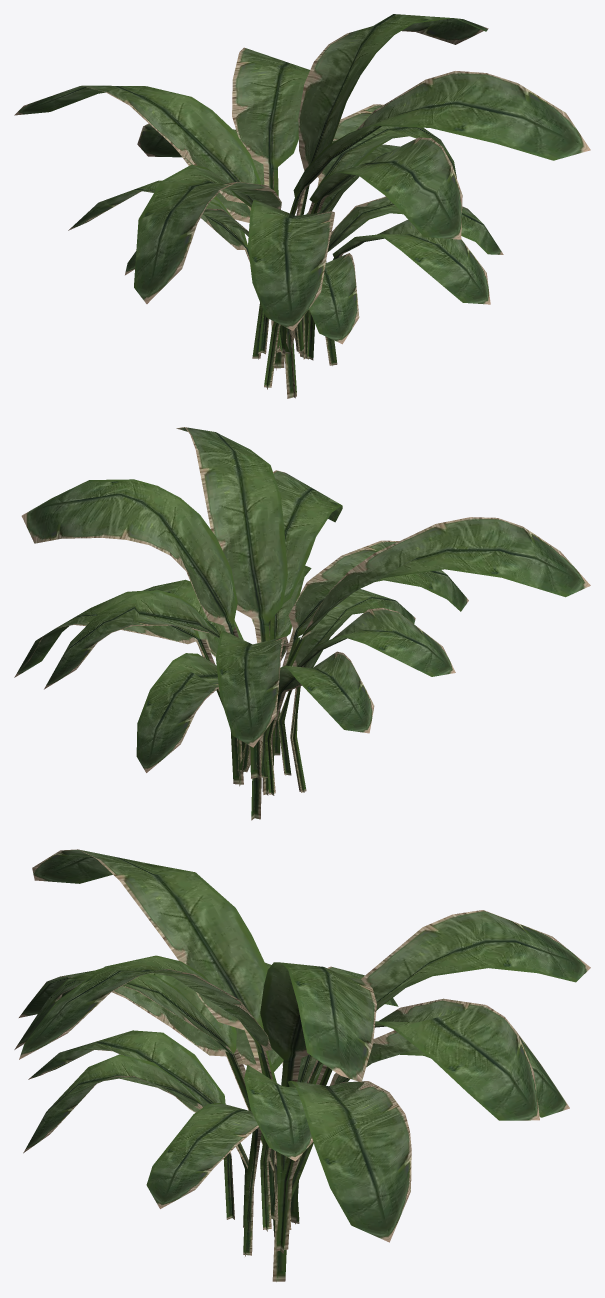
3 views of the same model, one above another, from view 1: azimuth 30°, elevation 25°; view 2: azimuth 150°, elevation 25°; view 3: azimuth 270°, elevation 25° (orthographic). The views are drawn at different scales.
Visible parts, largest first — view 1: Bistro_Research_Interior_Paris_Flower_Pot_01A_2442; view 2: Bistro_Research_Interior_Paris_Flower_Pot_01A_2442; view 3: Bistro_Research_Interior_Paris_Flower_Pot_01A_2442.
Part boxes in pixels (box(x1,y1,x2,y2)): Bistro_Research_Interior_Paris_Flower_Pot_01A_2442: box(14, 14, 590, 398); Bistro_Research_Interior_Paris_Flower_Pot_01A_2442: box(14, 427, 590, 820); Bistro_Research_Interior_Paris_Flower_Pot_01A_2442: box(14, 849, 590, 1281).
Size of the model in its own units: 0.9934 by 0.6731 by 0.9276.
Materials: 1 (1 with a texture image).
